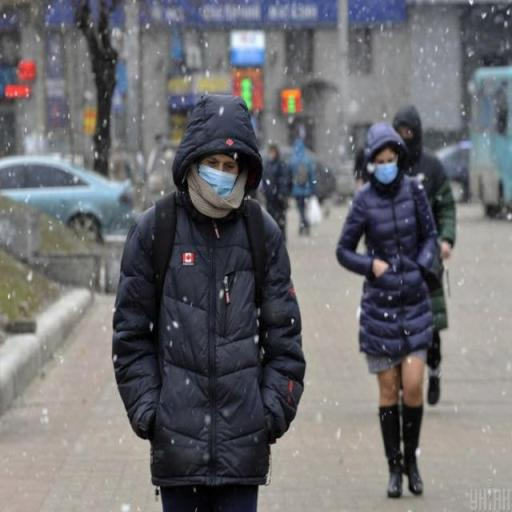person: (116, 92, 307, 512), (337, 127, 432, 497), (395, 104, 458, 408), (262, 142, 293, 242), (287, 137, 316, 236)
